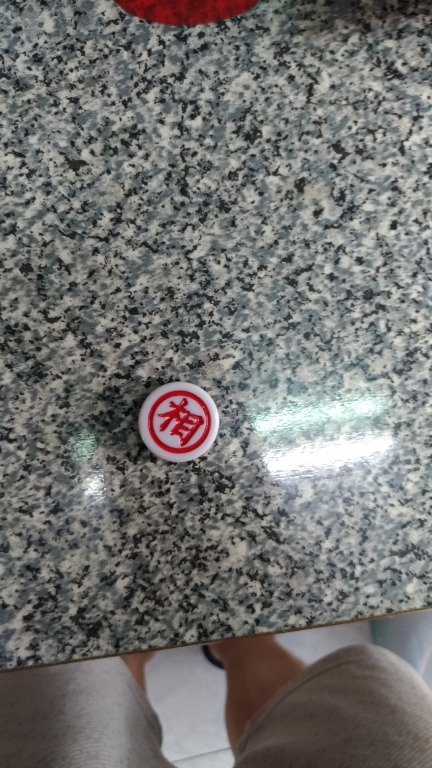r-elephant: (131, 377, 238, 473)
